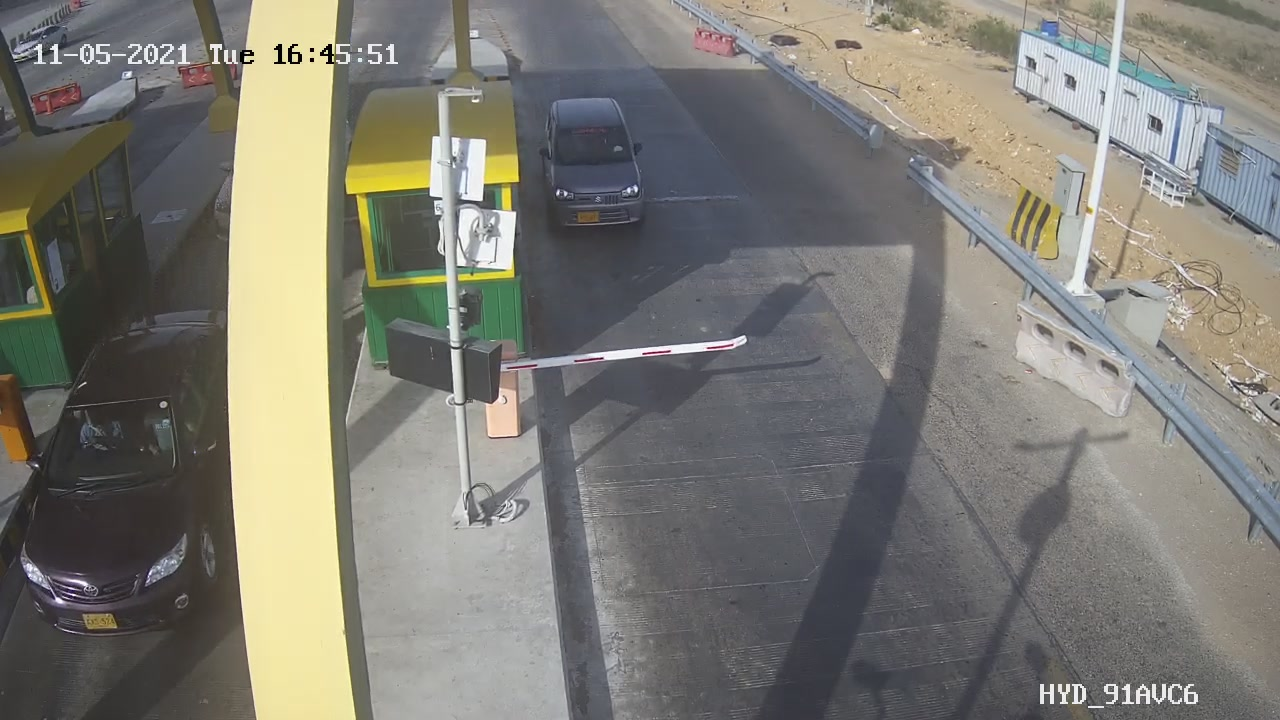F1: (522, 79, 686, 251)
